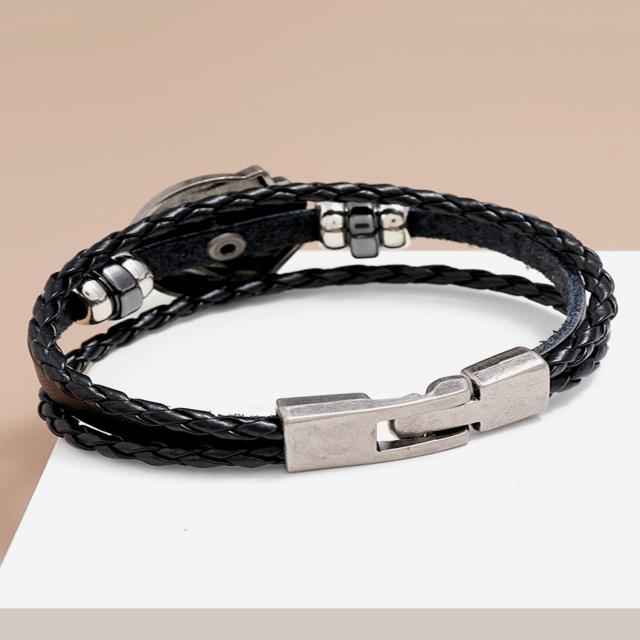bracelet: (0, 95, 640, 539)
